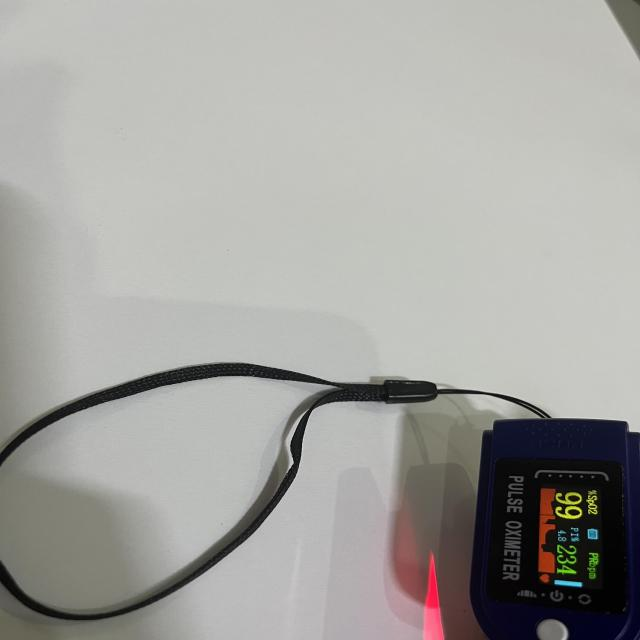spo2: (470, 418, 640, 640)
